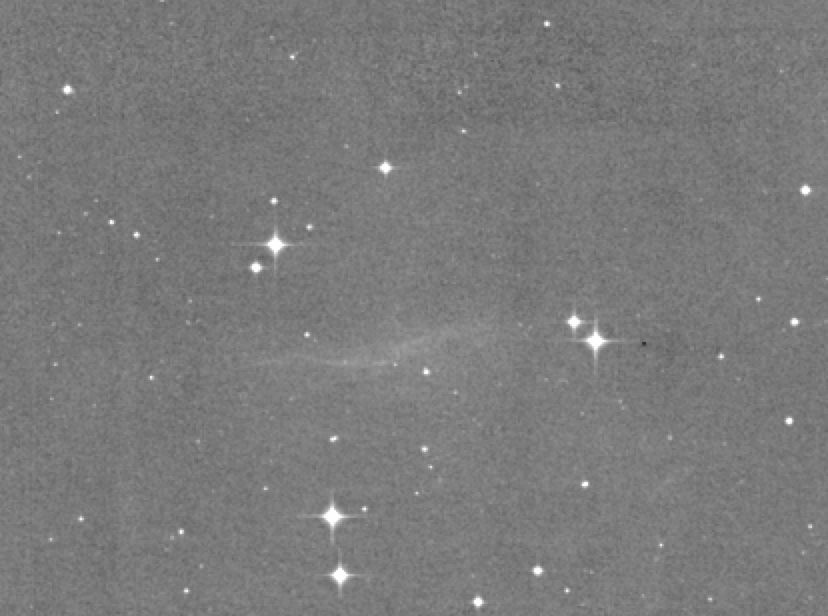Halpha: (213, 291, 528, 398)
